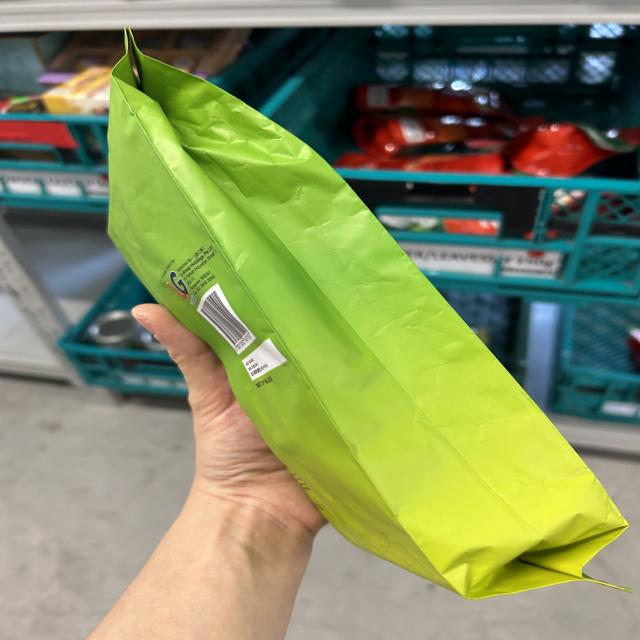object_name: (110, 61, 601, 612)
